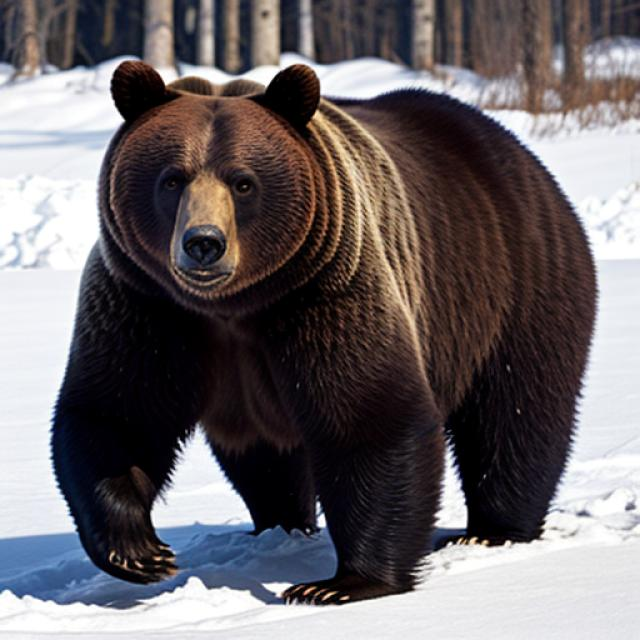bear: (99, 41, 338, 307)
